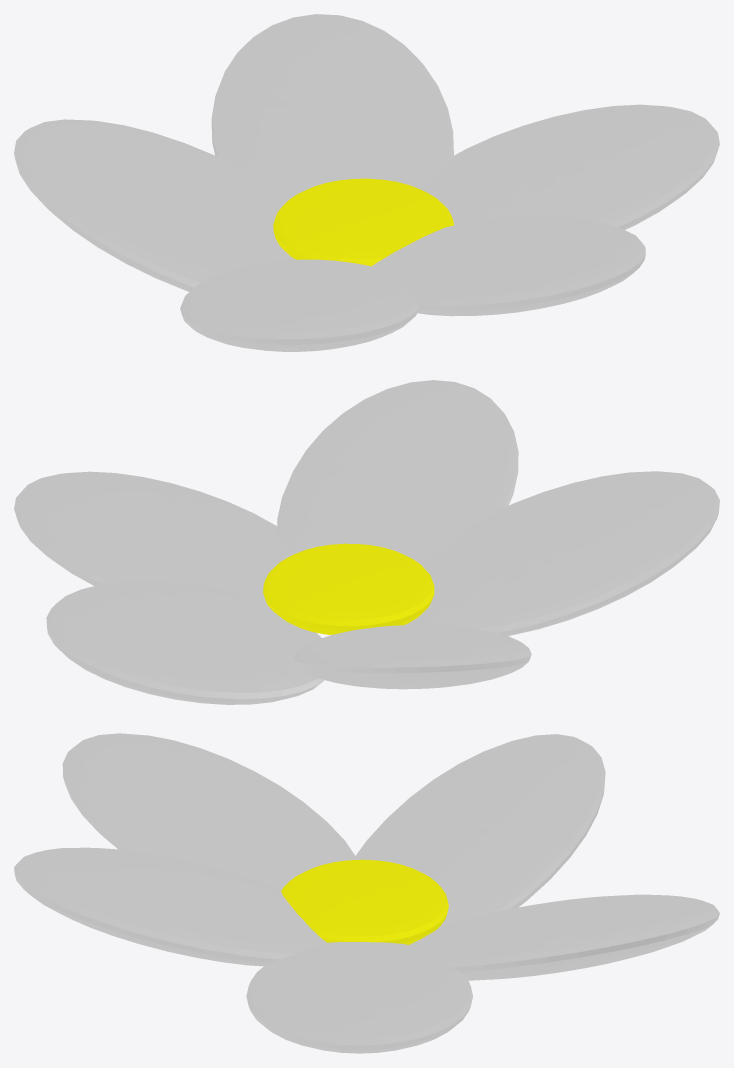
Rendered from item-hover-flower.glb.
The picture shows the model from 3 angles, top to bottom: view 1: azimuth 30°, elevation 25°; view 2: azimuth 150°, elevation 25°; view 3: azimuth 270°, elevation 25°; orthographic projection. The views are drawn at different scales.
Size of the model in its own units: 1.3 by 0.2881 by 1.36.
